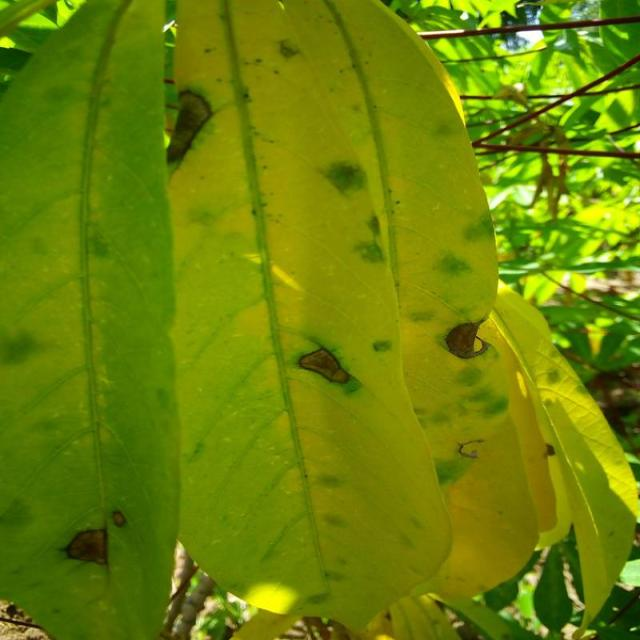cassava leaf: (1, 0, 636, 637), (0, 0, 182, 638)
